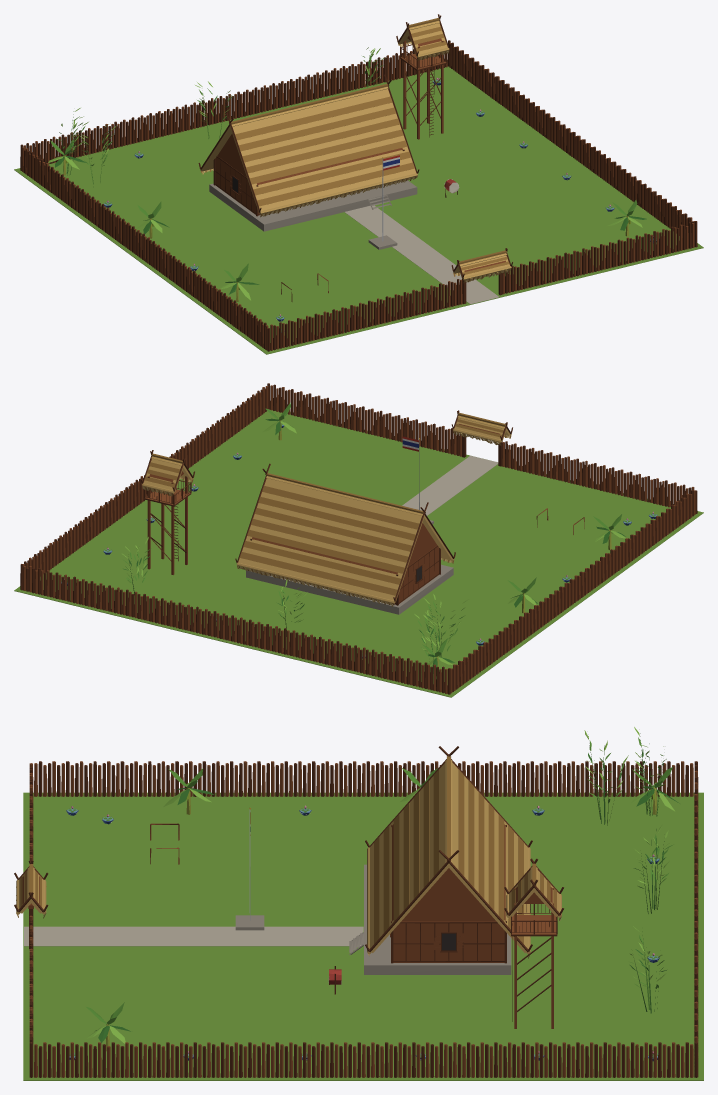
Rendered from police.glb.
The picture shows the model from 3 angles, top to bottom: view 1: azimuth 30°, elevation 25°; view 2: azimuth 150°, elevation 25°; view 3: azimuth 270°, elevation 25°; orthographic projection. The views are drawn at different scales.
Visible parts, largest first — view 1: body; view 2: body; view 3: body.
Boxes of the visible parts, x1,y1,x2,y2 form: body: [14, 14, 703, 354]; body: [14, 383, 703, 697]; body: [14, 727, 703, 1080].
Size of the model in its own units: 47.9 by 11.85 by 48.56.
